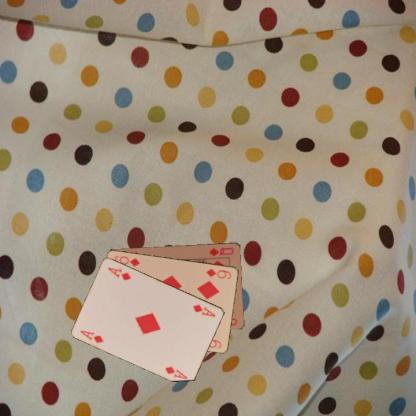6d: (204, 266, 233, 280)
Ad: (190, 301, 216, 318), (78, 327, 104, 344)
Qd: (206, 245, 235, 257)
